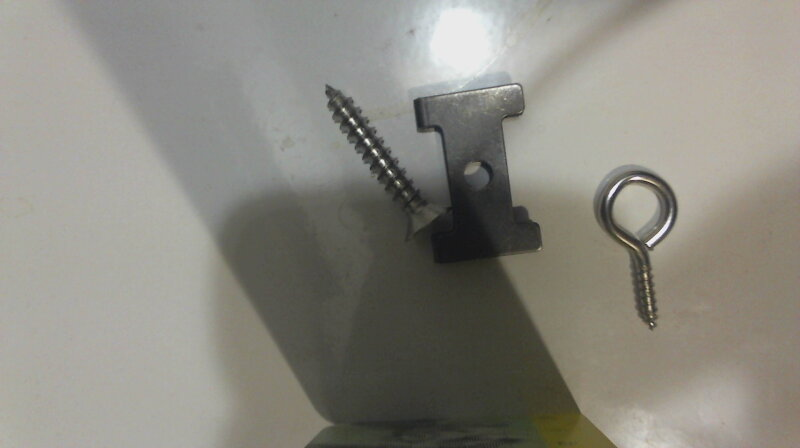O001: (596, 166, 686, 335)
O002: (411, 80, 543, 265)
S001: (319, 82, 448, 248)
